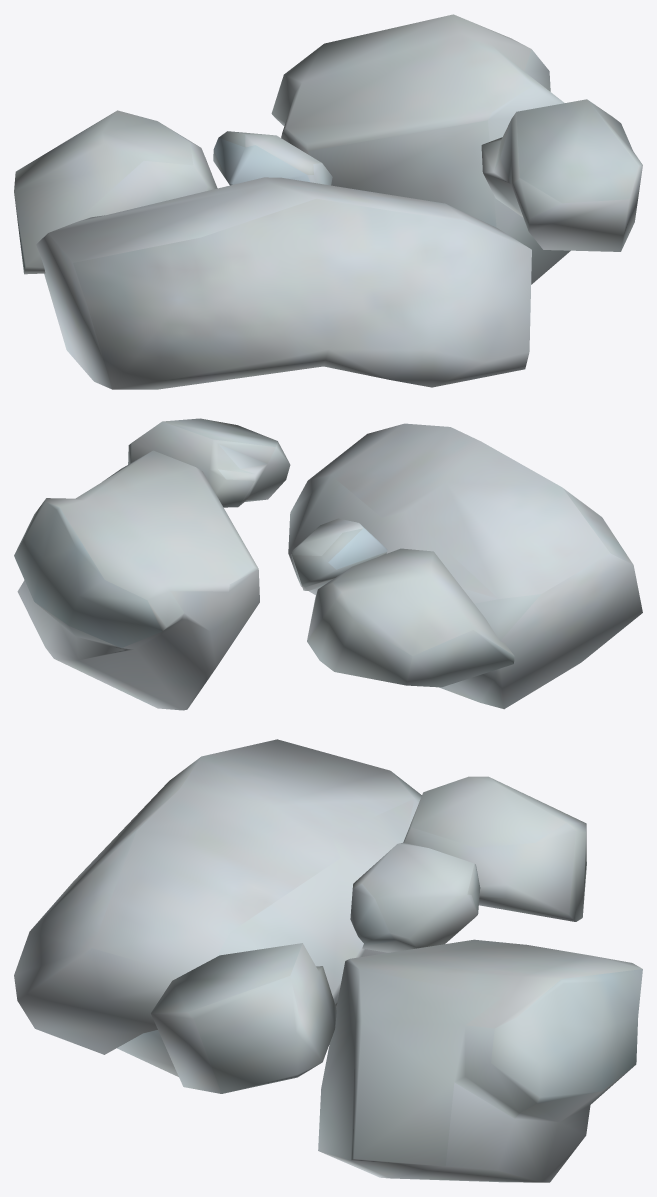
File: P_RockSpire_RockClump03.obj
3 views of the same model, one above another, from view 1: azimuth 30°, elevation 25°; view 2: azimuth 150°, elevation 25°; view 3: azimuth 270°, elevation 25° (orthographic). The views are drawn at different scales.
Size of the model in its own units: 7.19 by 2.98 by 6.05.
